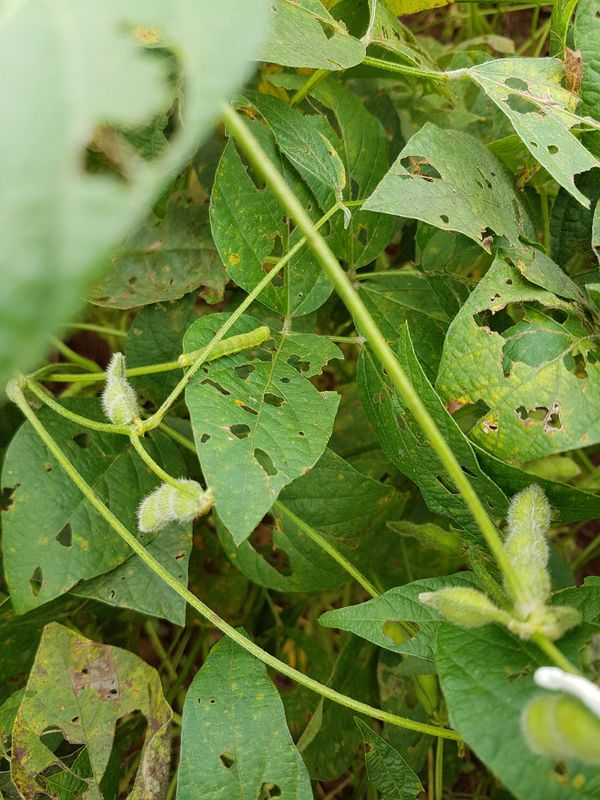Anticarsia_gemmatalis: (171, 320, 278, 380)
Euschistus_heros_adulto: (538, 27, 600, 101)
